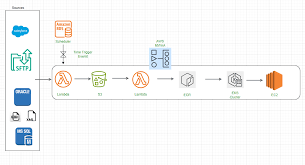ec2: (265, 70, 284, 91)
ecr: (179, 71, 196, 88)
lambda: (54, 69, 73, 89), (132, 70, 150, 89)
s3: (90, 69, 108, 88)
transfer family: (9, 45, 34, 75)
